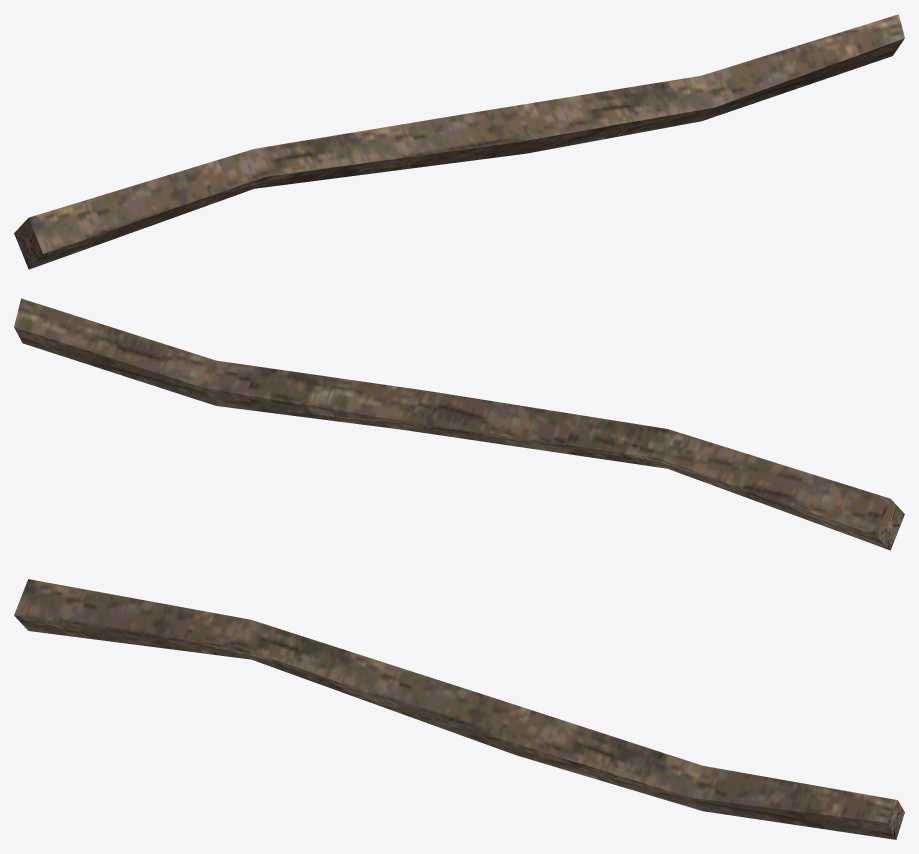
Rendered from Urban_WoodenFenceBeamAlt_Model.fbx.
3 views of the same model, one above another, from view 1: azimuth 30°, elevation 25°; view 2: azimuth 150°, elevation 25°; view 3: azimuth 330°, elevation 25° (orthographic).
Parts seen in each view (by area): view 1: Urban_WoodenFenceBeamAlt_Mesh; view 2: Urban_WoodenFenceBeamAlt_Mesh; view 3: Urban_WoodenFenceBeamAlt_Mesh.
Boxes of the visible parts, bbox=[...] form: Urban_WoodenFenceBeamAlt_Mesh: bbox=[14, 14, 904, 269]; Urban_WoodenFenceBeamAlt_Mesh: bbox=[14, 298, 904, 550]; Urban_WoodenFenceBeamAlt_Mesh: bbox=[14, 579, 904, 839].
Size of the model in its own units: 2.02 by 0.1873 by 0.1196.
